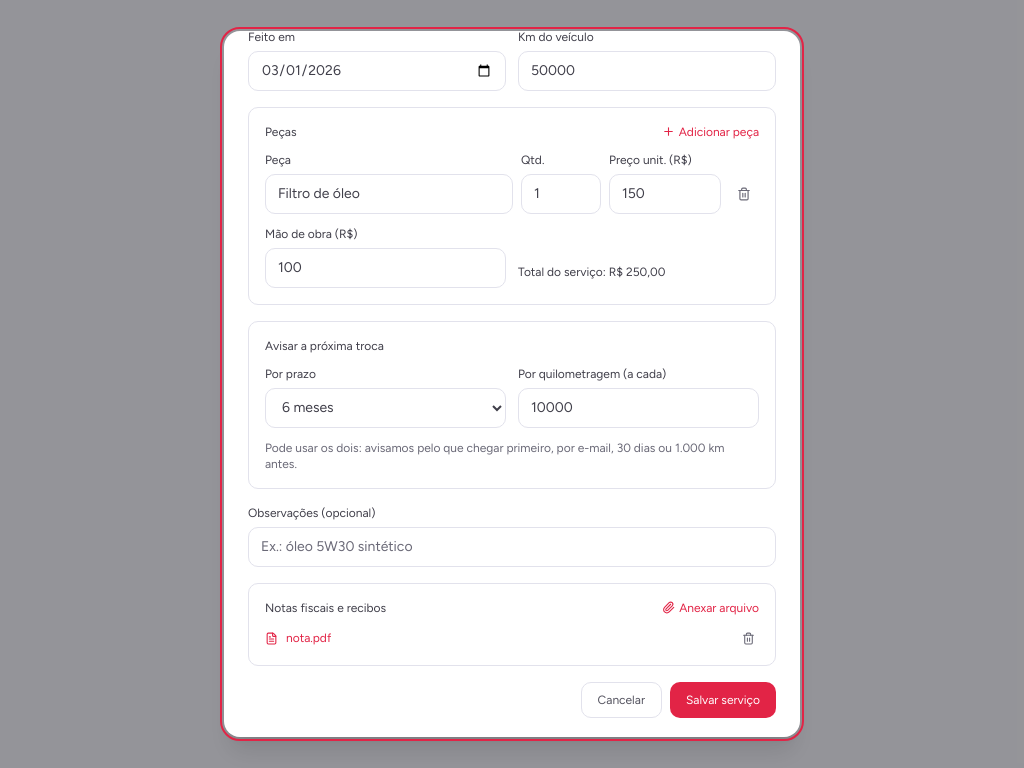
it: ServicoModal: edição › remover uma nota fiscal pede confirmação antes
(page scrolled)
Click the button named "Remover nota.pdf" at (748, 638), box [738,628,759,649]
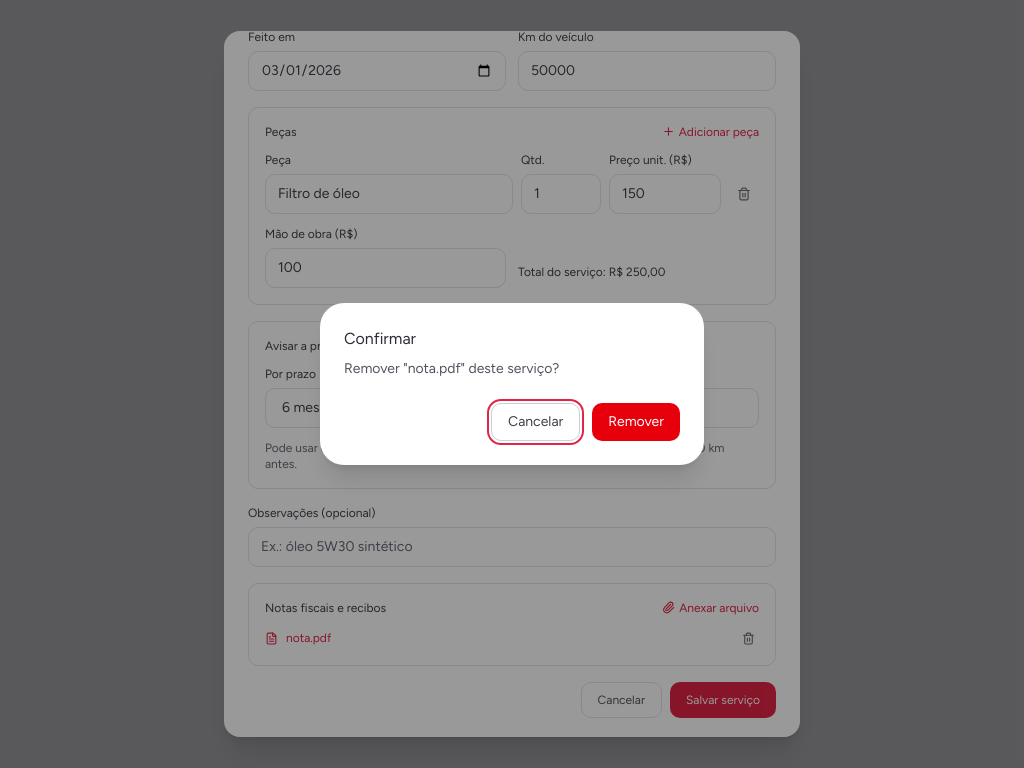
Click the button "Remover" at (636, 422), box [592,403,680,441]
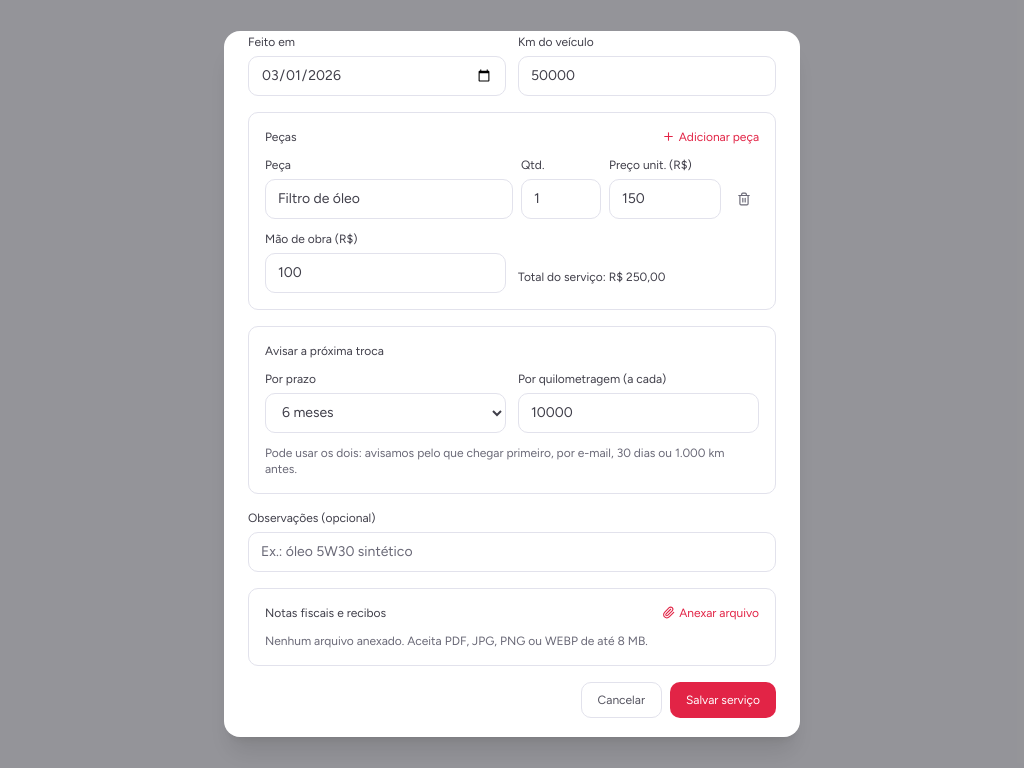
Expected: the text "nota.pdf" is gone
